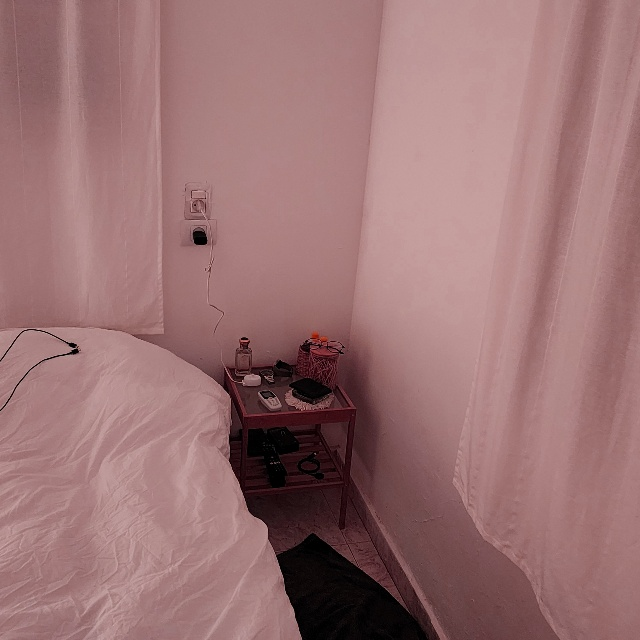glasses: (302, 332, 348, 358)
